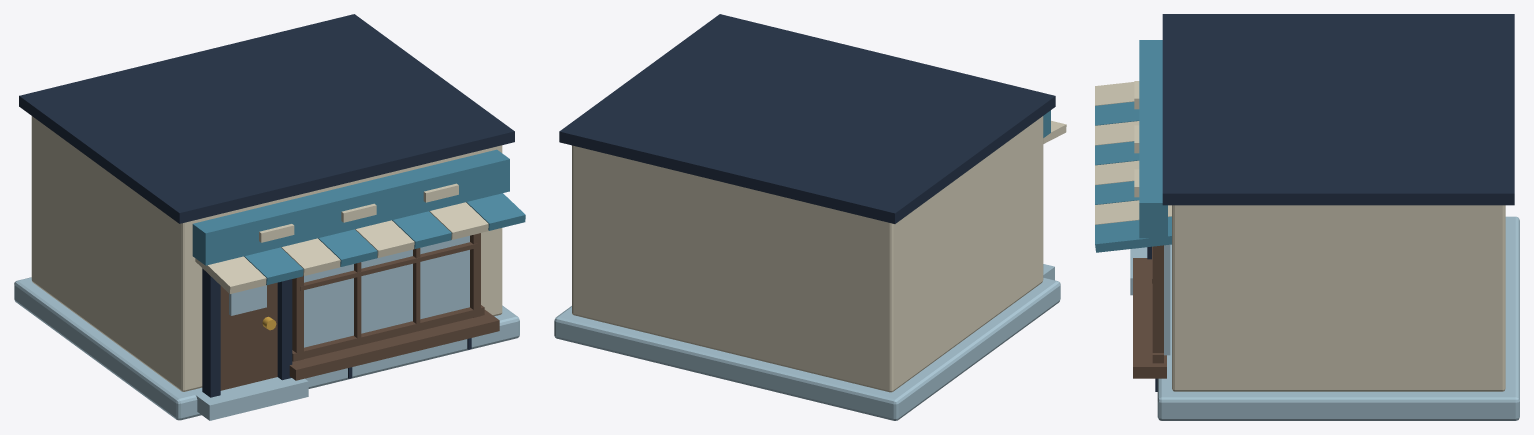
File: base_shop_banks.glb
The picture shows the model from 3 angles, left to right: view 1: azimuth 30°, elevation 25°; view 2: azimuth 150°, elevation 25°; view 3: azimuth 270°, elevation 25°; orthographic projection. The views are drawn at different scales.
Parts seen in each view (by area): view 1: base_shop_banks ink, base_shop_banks plaster, base_shop_banks river, base_shop_banks wood, base_shop_banks mist, base_shop_banks glass; view 2: base_shop_banks plaster, base_shop_banks ink, base_shop_banks mist; view 3: base_shop_banks ink, base_shop_banks plaster, base_shop_banks mist, base_shop_banks river, base_shop_banks wood, base_shop_banks glass.
Part boxes in pixels (bbox=[...]): base_shop_banks ink: bbox=[19, 14, 514, 397]; base_shop_banks plaster: bbox=[31, 116, 502, 391]; base_shop_banks river: bbox=[192, 149, 525, 284]; base_shop_banks wood: bbox=[220, 233, 499, 390]; base_shop_banks mist: bbox=[14, 277, 519, 420]; base_shop_banks glass: bbox=[229, 235, 469, 347]; base_shop_banks plaster: bbox=[572, 116, 1066, 392]; base_shop_banks ink: bbox=[559, 14, 1055, 223]; base_shop_banks mist: bbox=[554, 264, 1060, 420]; base_shop_banks ink: bbox=[1147, 14, 1514, 391]; base_shop_banks plaster: bbox=[1095, 81, 1505, 391]; base_shop_banks mist: bbox=[1130, 216, 1519, 420]; base_shop_banks river: bbox=[1095, 40, 1171, 252]; base_shop_banks wood: bbox=[1133, 245, 1166, 378]; base_shop_banks glass: bbox=[1164, 244, 1170, 355].
Size of the model in its own units: 0.835 by 0.48 by 0.815.
